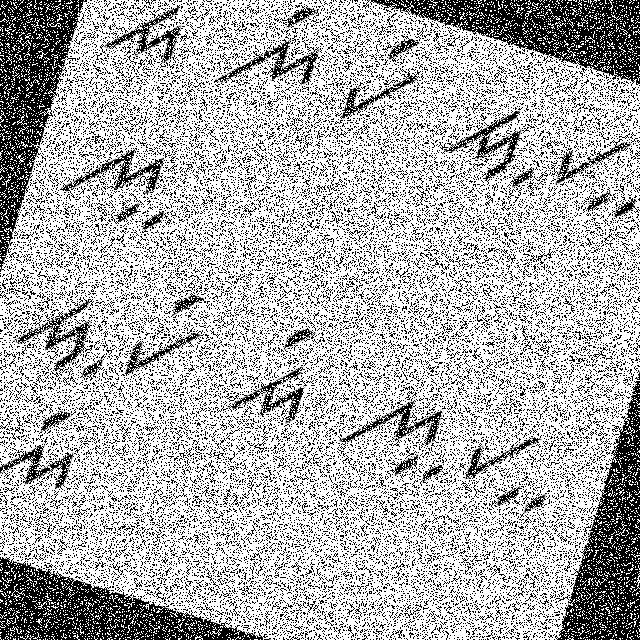dah: (0, 269, 127, 394), (432, 76, 558, 200)
dang: (221, 305, 329, 440), (102, 0, 211, 76)
nah: (326, 359, 473, 502), (41, 114, 191, 242)
nang: (202, 0, 336, 123), (0, 385, 94, 524)
pah: (449, 402, 571, 532), (544, 108, 639, 230)
pang: (114, 272, 216, 400), (337, 18, 434, 137)
